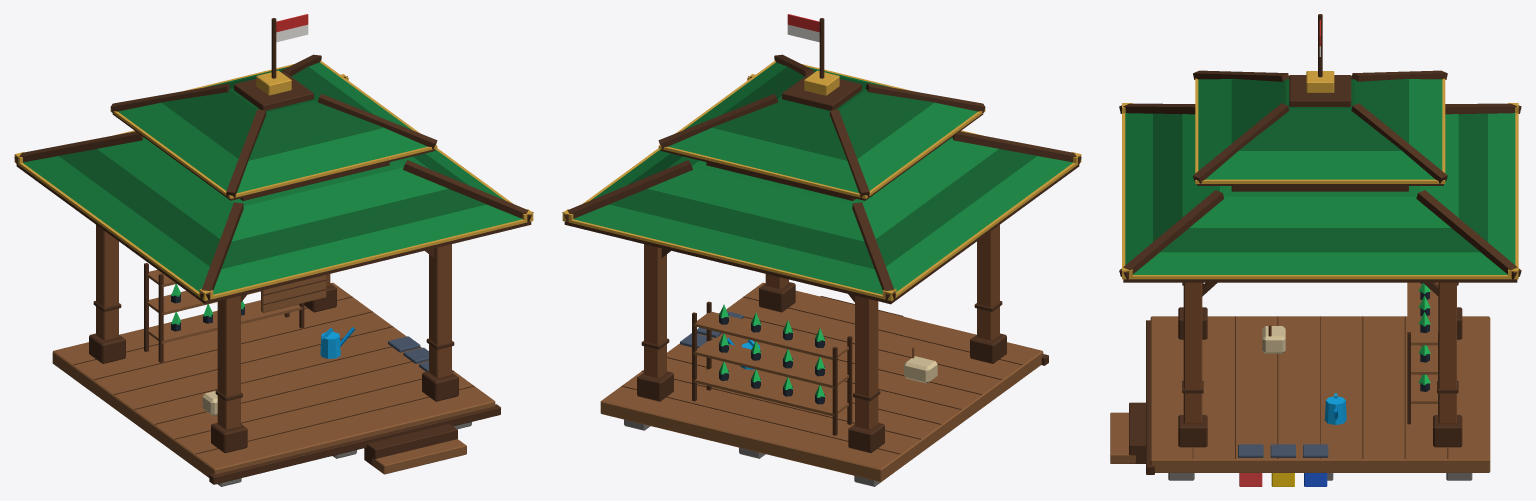
The model's file is rumah_persemaian_v001.glb.
The picture shows the model from 3 angles, left to right: view 1: azimuth 30°, elevation 25°; view 2: azimuth 150°, elevation 25°; view 3: azimuth 270°, elevation 25°; orthographic projection. The views are drawn at different scales.
Visible parts, largest first — view 1: Rumah_Persemaian, Papan_Nama; view 2: Rumah_Persemaian; view 3: Rumah_Persemaian.
Boxes of the visible parts, x1,y1,x2,y2 form: Rumah_Persemaian: [14, 14, 533, 486]; Papan_Nama: [261, 275, 326, 312]; Rumah_Persemaian: [562, 14, 1081, 486]; Rumah_Persemaian: [1110, 14, 1521, 486].
Bounding box in the file's own units: 5.21 × 5.75 × 5.33.
